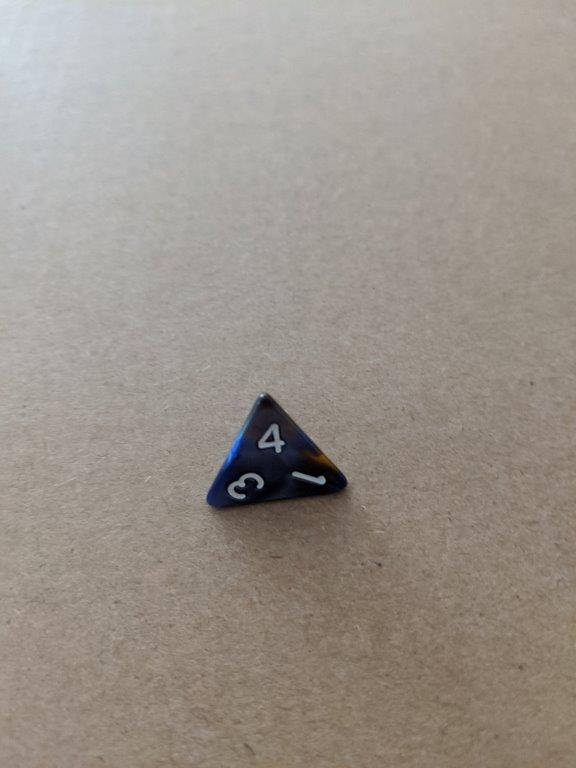d4-4: (205, 391, 350, 513)
